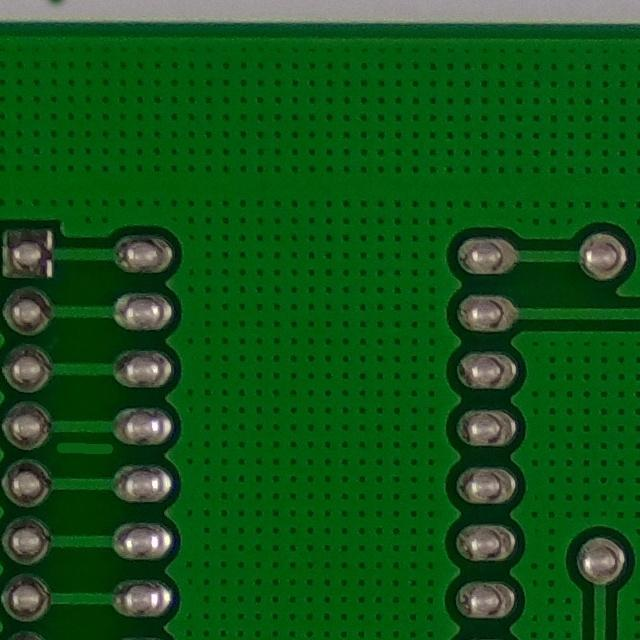spurious_copper: (49, 422, 120, 479)
